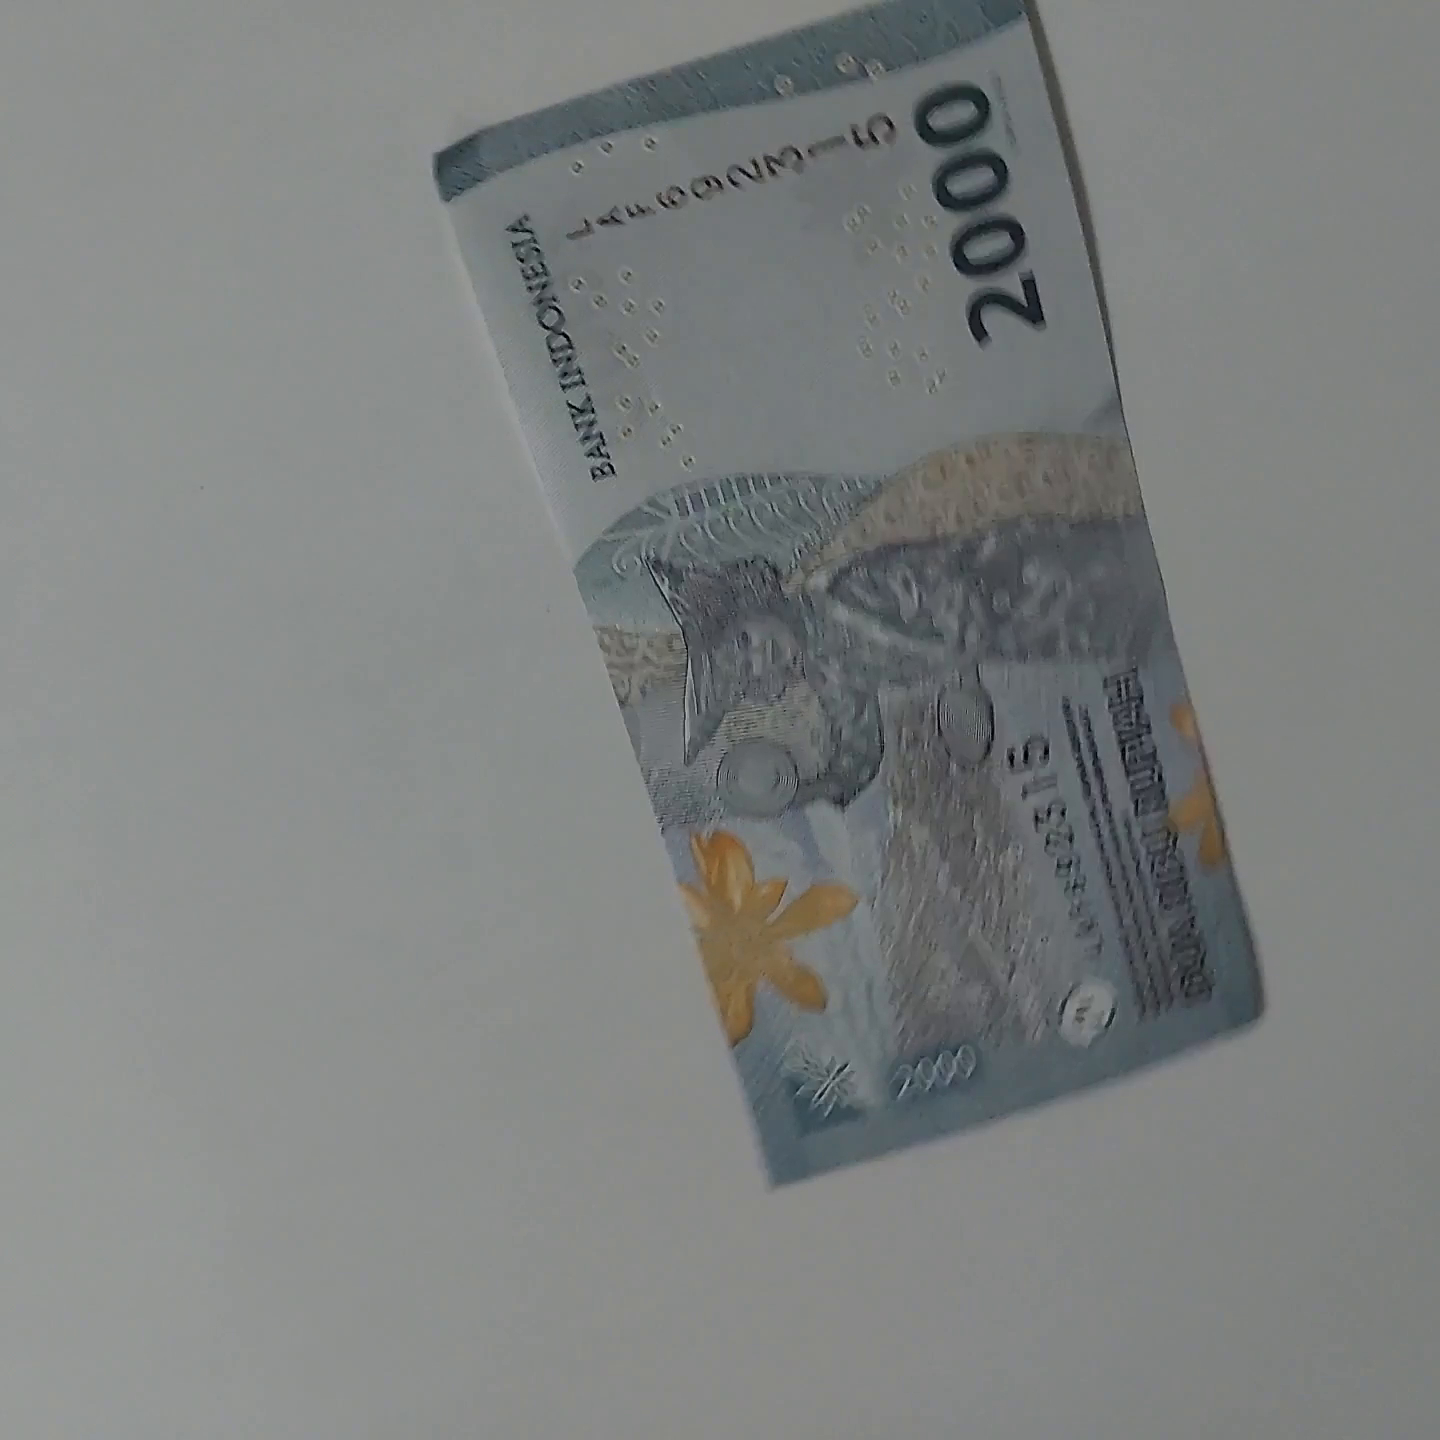2k: (389, 0, 1315, 1195)
